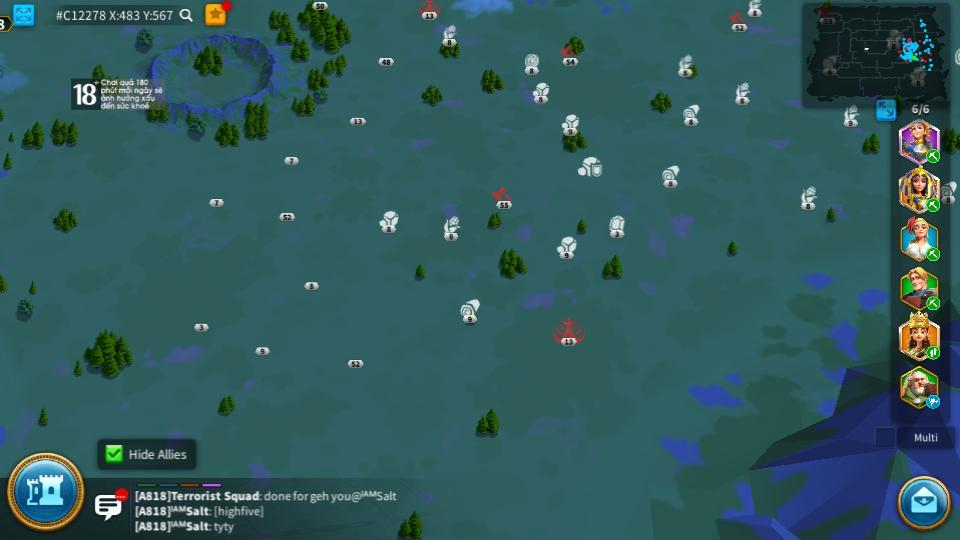gem-z-out: (608, 214, 626, 235), (283, 155, 297, 165), (304, 280, 318, 289)
march_idle: (925, 394, 942, 408)
march_marching: (925, 197, 941, 212), (925, 347, 941, 359), (925, 150, 941, 162), (925, 248, 941, 260), (925, 297, 942, 308)
